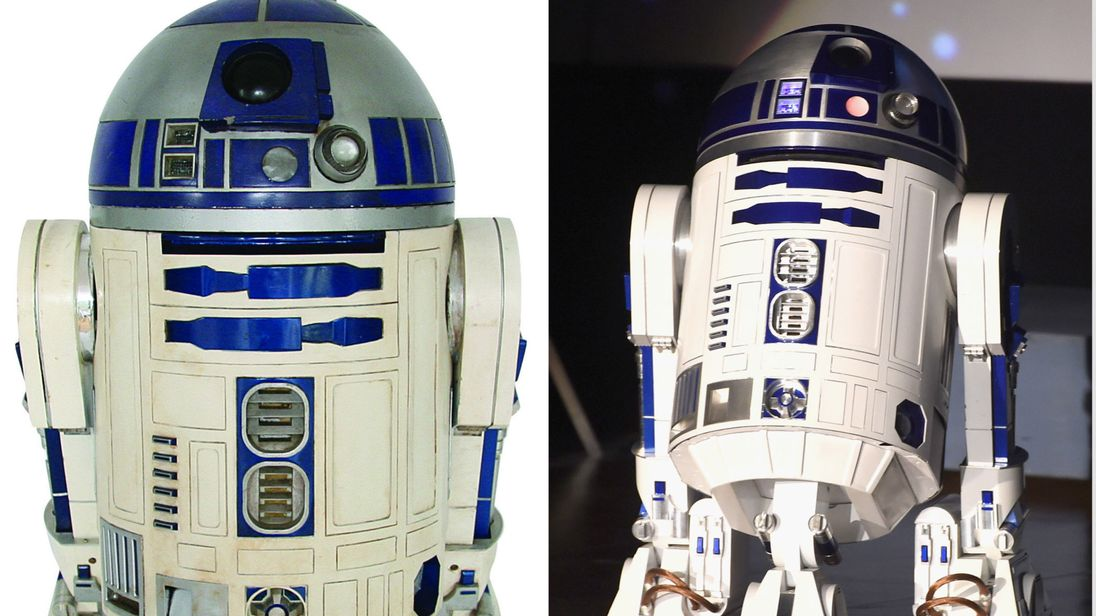r2d2: (17, 2, 529, 615), (602, 23, 1045, 616)
